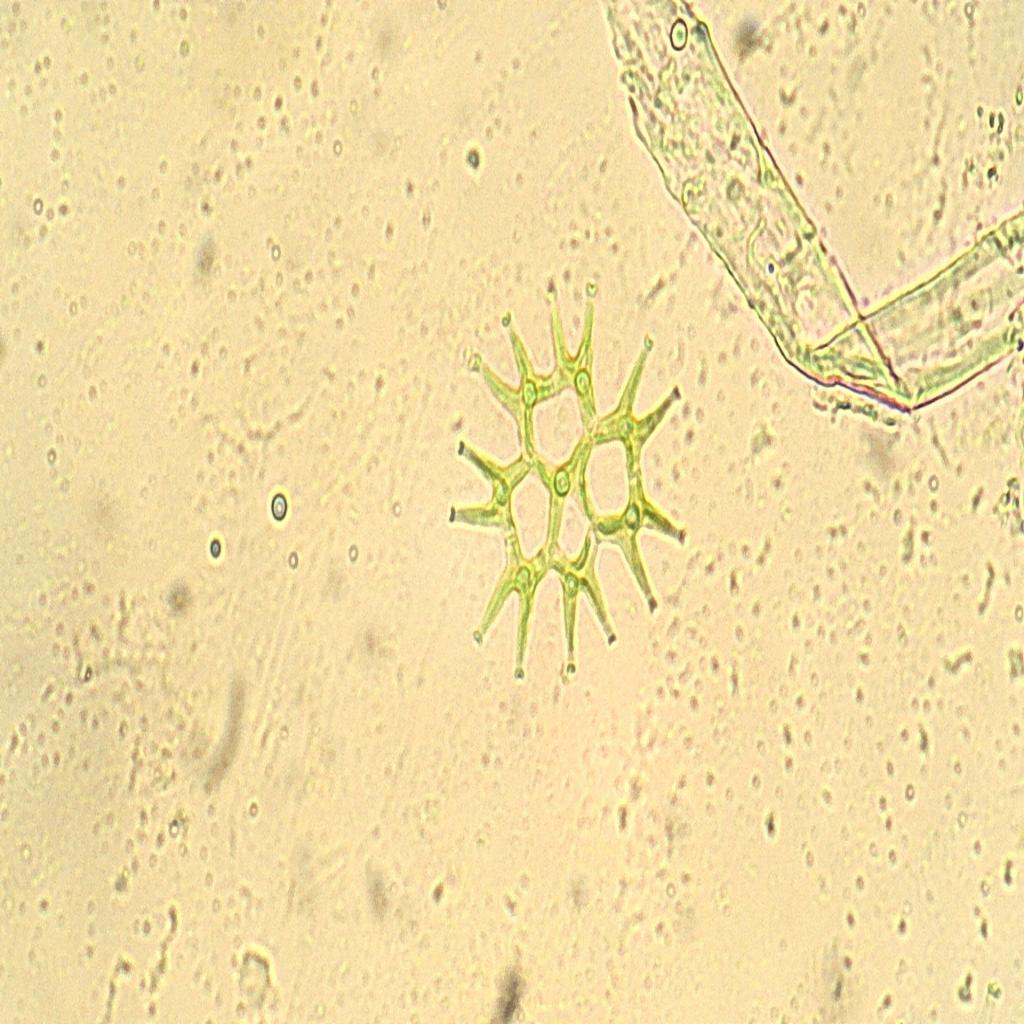Pediastrum_CTH: (424, 260, 709, 706)
